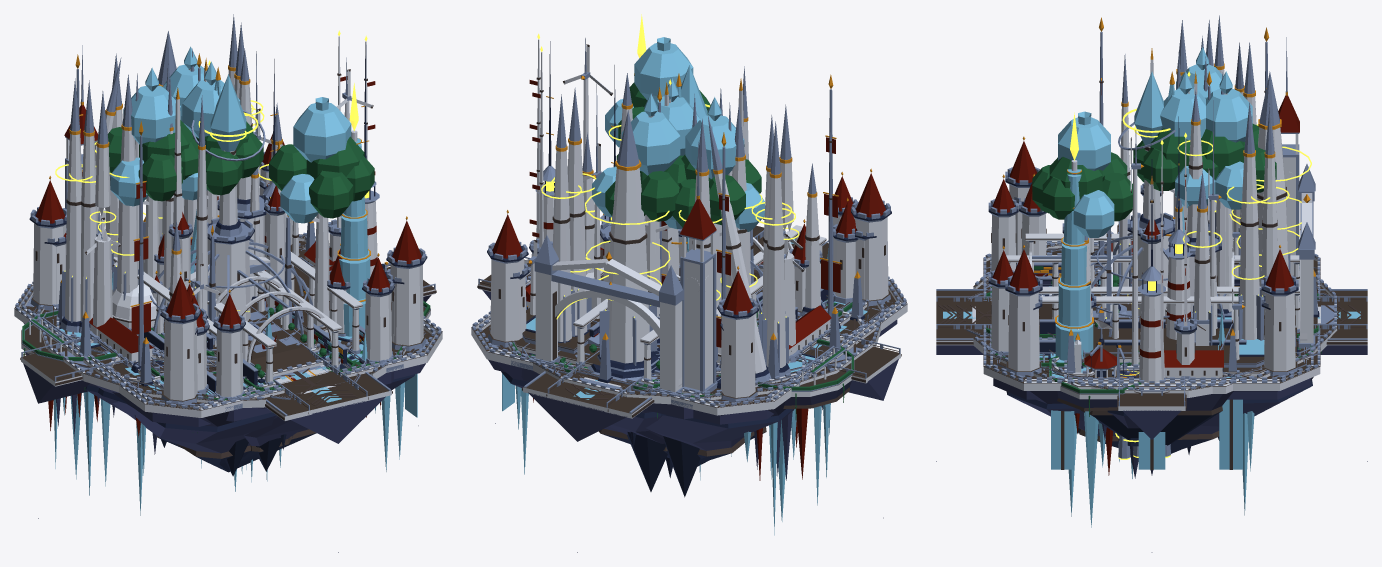
File: SC_RECOLOR_SIEGE.fbx
3 views of the same model, side by side, from view 1: azimuth 30°, elevation 25°; view 2: azimuth 150°, elevation 25°; view 3: azimuth 270°, elevation 25° (orthographic). The views are drawn at different scales.
Visible parts, largest first — view 1: chunk_spire_court__siege, chunk_sky_tree_grove__siege, chunk_boss_clearing__siege, chunk_path_colonnade__siege, chunk_aether_springs__siege, chunk_parade_ground__siege, chunk_spire_court_b__siege, chunk_path_straight__siege, chunk_side_garden__siege, chunk_archive__siege, chunk_entry__siege, chunk_garden_terrace__siege (+19 smaller); view 2: chunk_spire_court__siege, chunk_boss_clearing__siege, chunk_garden_terrace__siege, chunk_archive__siege, chunk_sky_tree_grove__siege, chunk_parade_ground__siege, chunk_path_colonnade__siege, chunk_armory__siege, chunk_spire_court_b__siege, chunk_aether_springs__siege, chunk_path_long_span__siege, chunk_entry__siege (+14 smaller); view 3: chunk_spire_court__siege, chunk_boss_clearing__siege, chunk_aether_springs__siege, chunk_garden_terrace__siege, chunk_sky_tree_grove__siege, chunk_armory__siege, chunk_archive__siege, chunk_parade_ground__siege, chunk_side_garden__siege, chunk_spire_court_b__siege, chunk_crossroads__siege, chunk_path_bend_west__siege (+17 smaller).
Boxes of the visible parts, left/top/right/bottom form: chunk_spire_court__siege: left=14, top=22, right=442, bottom=472; chunk_sky_tree_grove__siege: left=107, top=67, right=402, bottom=473; chunk_boss_clearing__siege: left=37, top=31, right=406, bottom=443; chunk_path_colonnade__siege: left=38, top=78, right=360, bottom=479; chunk_aether_springs__siege: left=20, top=83, right=425, bottom=552; chunk_parade_ground__siege: left=20, top=14, right=436, bottom=426; chunk_spire_court_b__siege: left=52, top=57, right=403, bottom=471; chunk_path_straight__siege: left=163, top=95, right=333, bottom=399; chunk_side_garden__siege: left=151, top=61, right=356, bottom=403; chunk_archive__siege: left=64, top=45, right=393, bottom=421; chunk_entry__siege: left=109, top=74, right=352, bottom=382; chunk_garden_terrace__siege: left=21, top=46, right=430, bottom=495; chunk_spire_court__siege: left=471, top=87, right=907, bottom=465; chunk_boss_clearing__siege: left=508, top=110, right=884, bottom=415; chunk_garden_terrace__siege: left=560, top=93, right=854, bottom=505; chunk_archive__siege: left=520, top=142, right=851, bottom=435; chunk_sky_tree_grove__siege: left=512, top=37, right=852, bottom=418; chunk_parade_ground__siege: left=477, top=94, right=901, bottom=424; chunk_path_colonnade__siege: left=552, top=121, right=811, bottom=521; chunk_armory__siege: left=525, top=132, right=869, bottom=497; chunk_spire_court_b__siege: left=511, top=38, right=869, bottom=491; chunk_aether_springs__siege: left=489, top=14, right=901, bottom=552; chunk_path_long_span__siege: left=515, top=74, right=864, bottom=477; chunk_entry__siege: left=559, top=104, right=830, bottom=406; chunk_spire_court__siege: left=983, top=42, right=1367, bottom=453; chunk_boss_clearing__siege: left=936, top=71, right=1336, bottom=398; chunk_aether_springs__siege: left=936, top=112, right=1367, bottom=552; chunk_garden_terrace__siege: left=984, top=71, right=1321, bottom=527; chunk_sky_tree_grove__siege: left=990, top=47, right=1312, bottom=367; chunk_armory__siege: left=936, top=27, right=1367, bottom=445; chunk_archive__siege: left=936, top=37, right=1367, bottom=360; chunk_parade_ground__siege: left=942, top=103, right=1365, bottom=399; chunk_side_garden__siege: left=947, top=71, right=1215, bottom=328; chunk_spire_court_b__siege: left=984, top=130, right=1319, bottom=439; chunk_crossroads__siege: left=937, top=71, right=1367, bottom=439; chunk_path_bend_west__siege: left=1096, top=159, right=1190, bottom=395.
Size of the model in its own units: 256 by 256 by 256.
